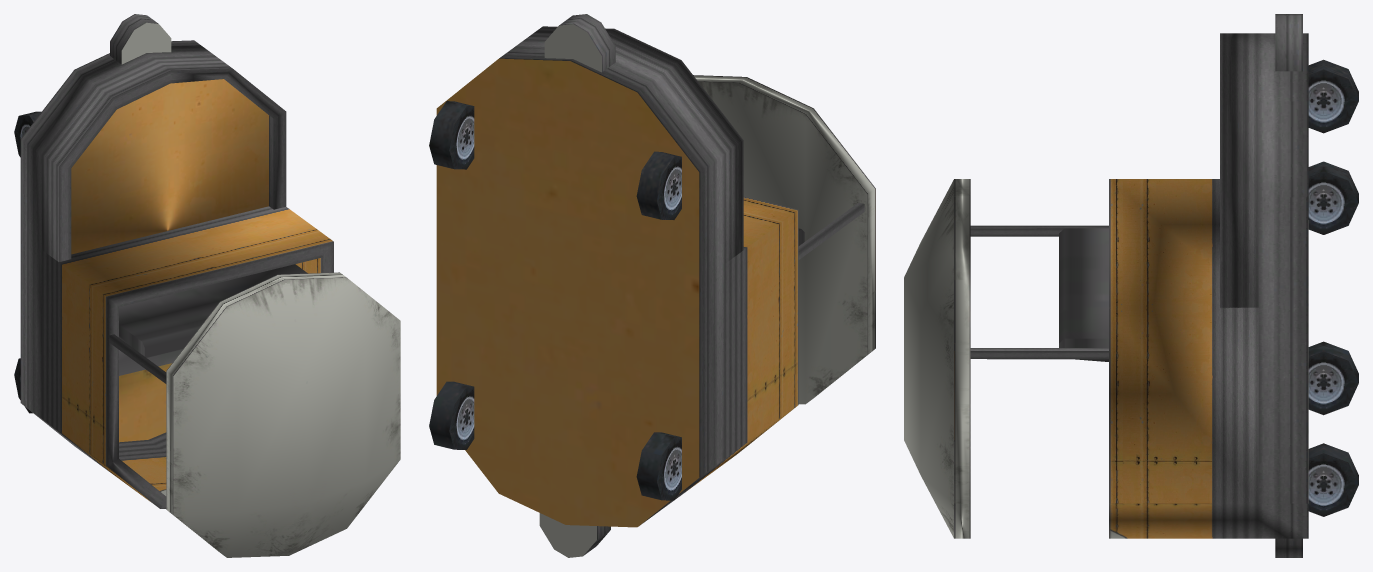
The model's file is nt_2020_vista_cart_02_LOD0.obj.
3 views of the same model, side by side, from view 1: azimuth 30°, elevation 25°; view 2: azimuth 150°, elevation 25°; view 3: azimuth 270°, elevation 25° (orthographic). The views are drawn at different scales.
Parts seen in each view (by area): view 1: mtl_nt_2020_vista_cart; view 2: mtl_nt_2020_vista_cart; view 3: mtl_nt_2020_vista_cart.
Boxes of the visible parts, <box> form: mtl_nt_2020_vista_cart: <box>14,14,400,557</box>; mtl_nt_2020_vista_cart: <box>429,14,875,557</box>; mtl_nt_2020_vista_cart: <box>904,14,1358,557</box>.
Size of the model in its own units: 140 by 272 by 208.
